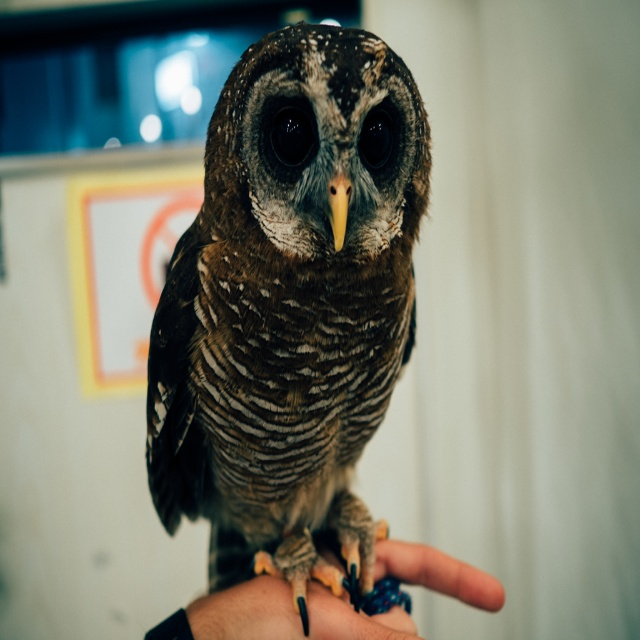Owl: (146, 20, 432, 639)
